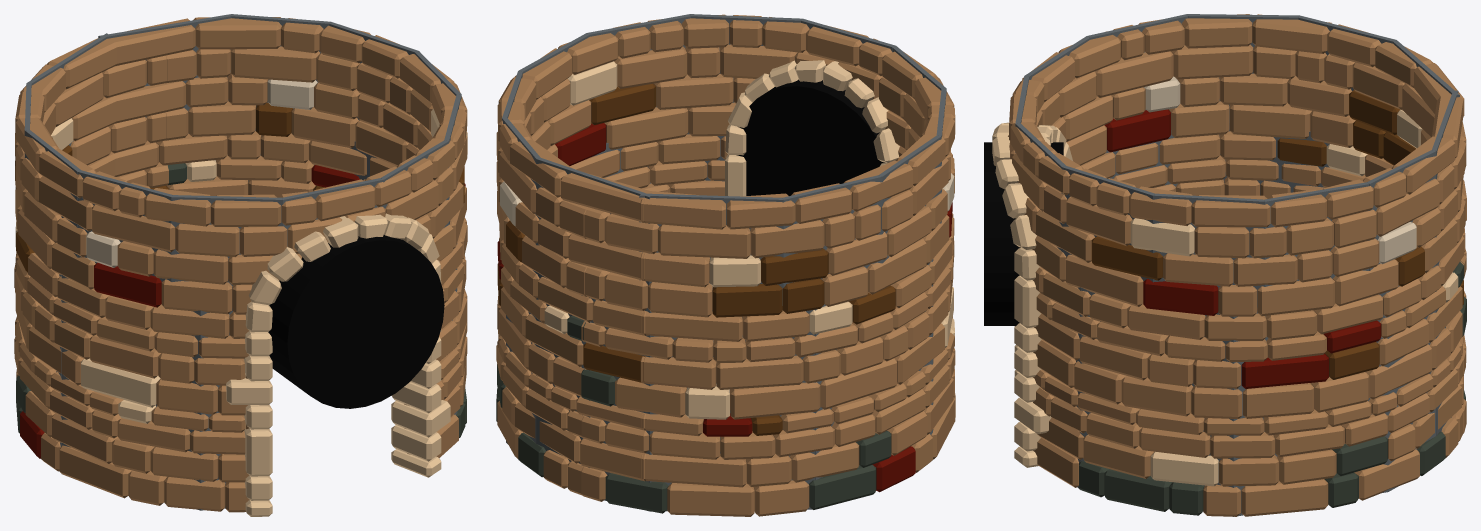
Rendered from base-section-with-doorway-rb.glb.
3 renders of one model, left to right at view 1: azimuth 30°, elevation 25°; view 2: azimuth 150°, elevation 25°; view 3: azimuth 270°, elevation 25°, orthographic.
Visible parts, largest first — view 1: main-wall.285, base-section-with-doorway, doorframe, grout-wall; view 2: main-wall.285, base-section-with-doorway, grout-wall, doorframe; view 3: main-wall.285, grout-wall, doorframe, base-section-with-doorway.
Part boxes in pixels (x1,y1,x2,y2): main-wall.285: [14, 17, 467, 512]; base-section-with-doorway: [268, 235, 444, 408]; doorframe: [226, 213, 450, 516]; grout-wall: [24, 14, 461, 510]; main-wall.285: [496, 14, 955, 516]; base-section-with-doorway: [736, 79, 886, 195]; grout-wall: [502, 14, 946, 511]; doorframe: [725, 60, 899, 196]; main-wall.285: [1008, 14, 1466, 516]; grout-wall: [1015, 14, 1459, 516]; doorframe: [992, 122, 1072, 467]; base-section-with-doorway: [984, 142, 1063, 325].
Size of the model in its own units: 2 by 1.51 by 2.1.
